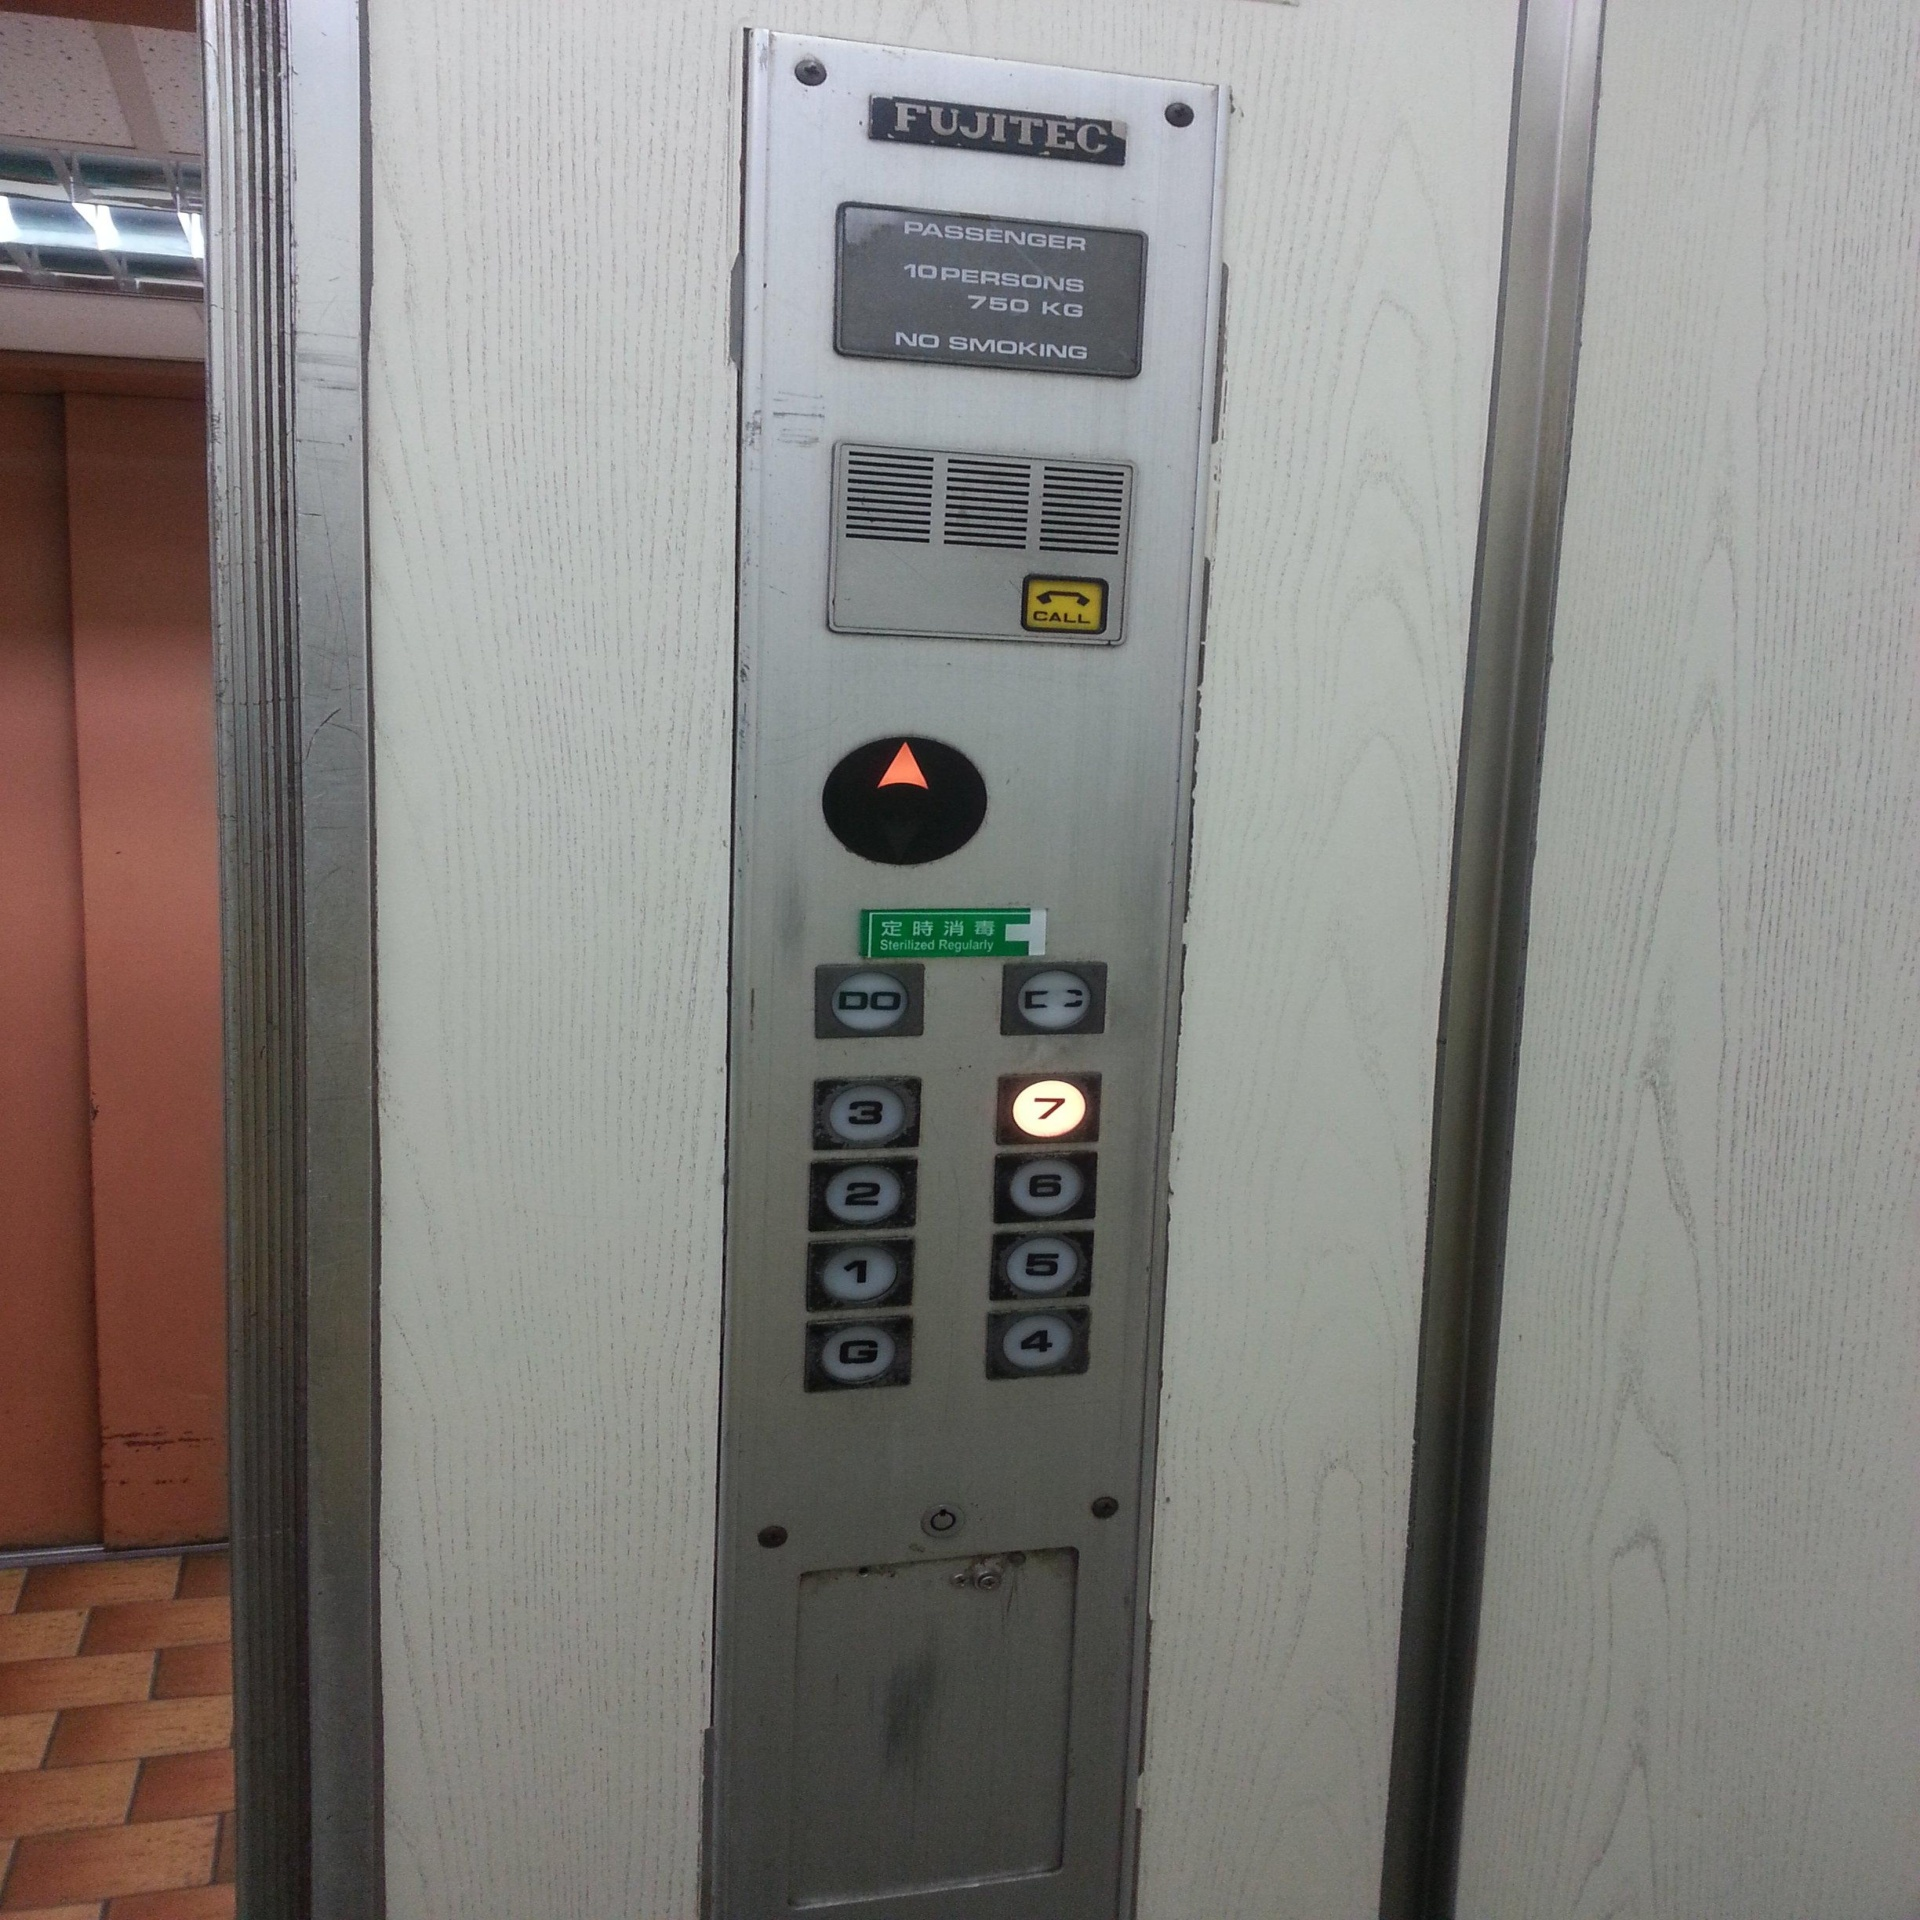1: (805, 1236, 920, 1312)
2: (809, 1160, 918, 1227)
3: (809, 1074, 921, 1150)
4: (983, 1305, 1095, 1384)
5: (990, 1229, 1095, 1299)
6: (993, 1152, 1101, 1220)
7: (992, 1069, 1101, 1148)
DO: (812, 958, 934, 1041)
G: (805, 1313, 918, 1394)
call: (1016, 570, 1115, 644)
led: (814, 731, 999, 867)
unknown: (1006, 962, 1109, 1041)
